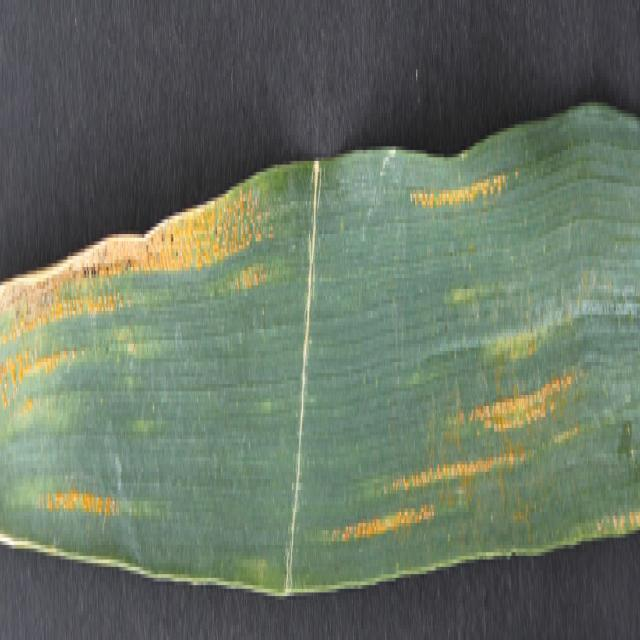leaf rust: (0, 172, 296, 523), (336, 347, 594, 567), (394, 139, 520, 223)
